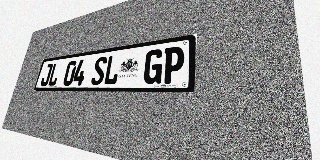0: (62, 60, 78, 86)
4: (72, 59, 88, 86)
G: (142, 48, 164, 84)
J: (40, 63, 53, 86)
L: (103, 54, 122, 85), (47, 62, 62, 86)
P: (161, 45, 185, 84)
S: (90, 56, 108, 85)
